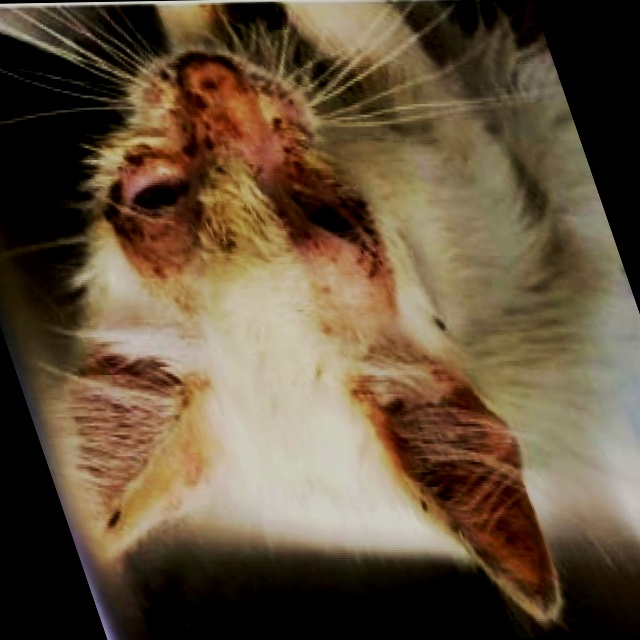ringworm: (276, 217, 388, 300), (162, 88, 264, 167), (105, 217, 208, 291), (267, 129, 334, 202)
